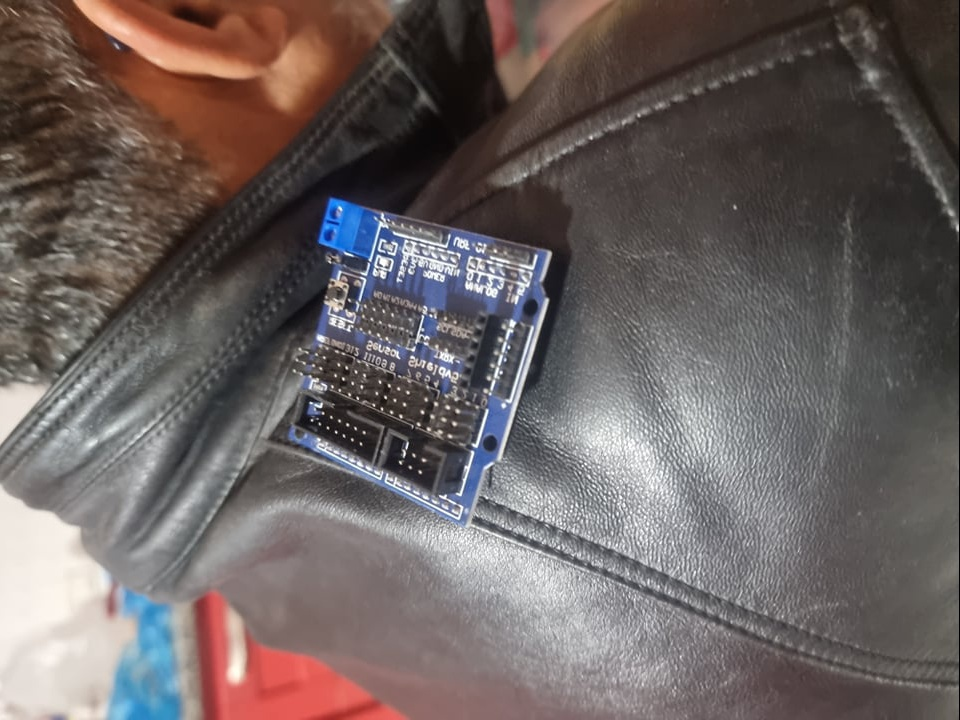5V EXPANSION: (287, 196, 560, 525)
